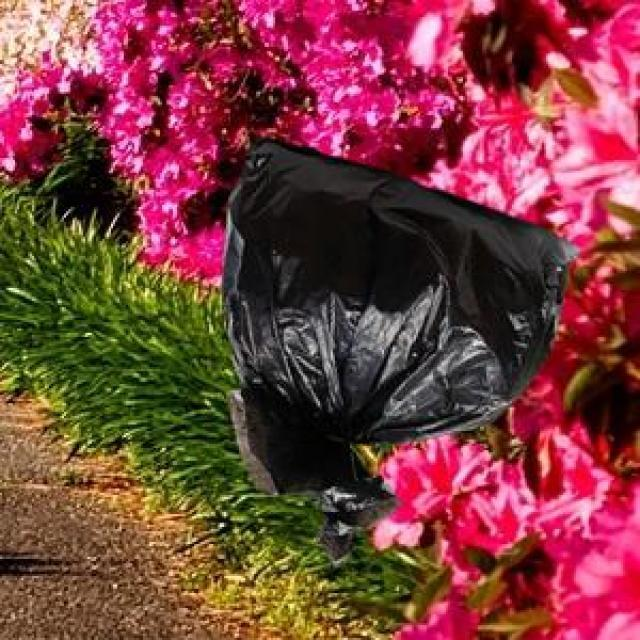miscellaneous trash: (220, 132, 574, 561)
